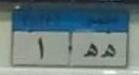1: (36, 35, 48, 63)
haa: (80, 41, 99, 61), (99, 40, 116, 61)
